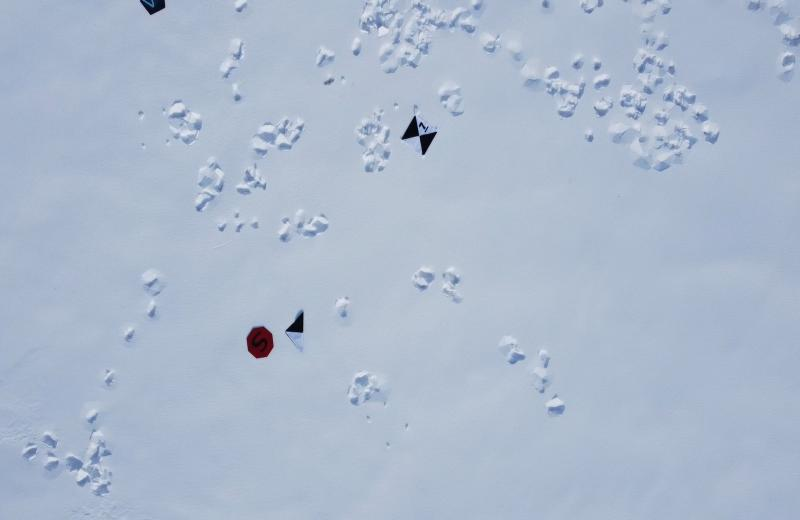Octagon: (247, 323, 277, 362)
Pentagon: (136, 0, 168, 16)
